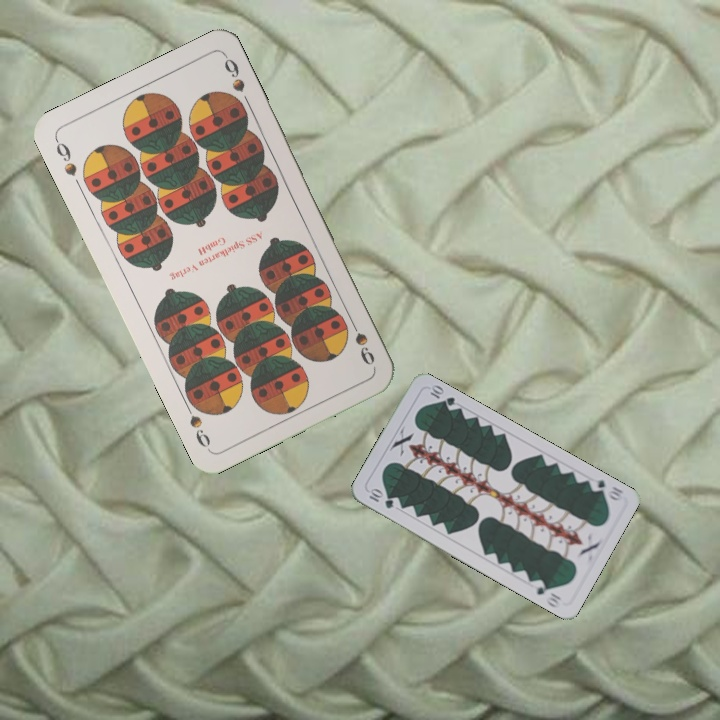G10: (585, 474, 626, 503), (365, 484, 397, 511)
S9: (345, 313, 378, 368), (51, 134, 80, 179)
